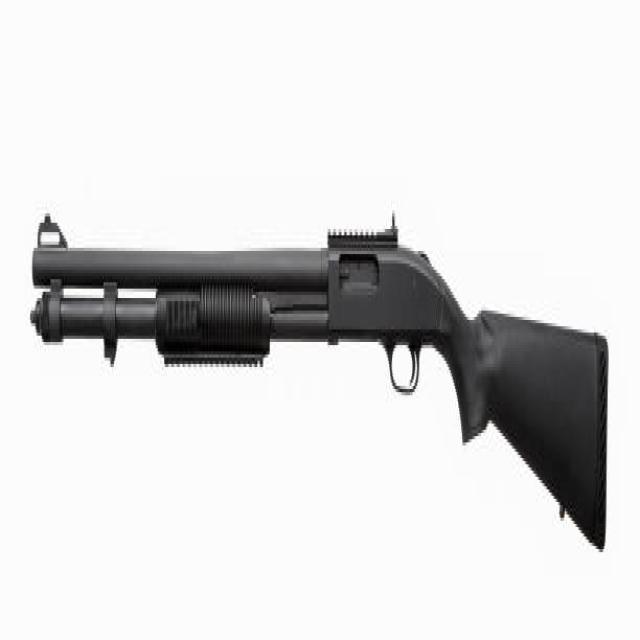rifle: (27, 205, 617, 557)
